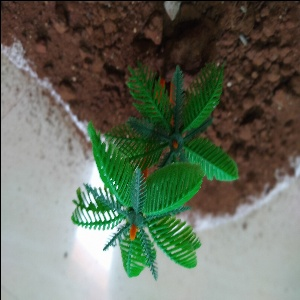plant: (75, 62, 244, 279)
